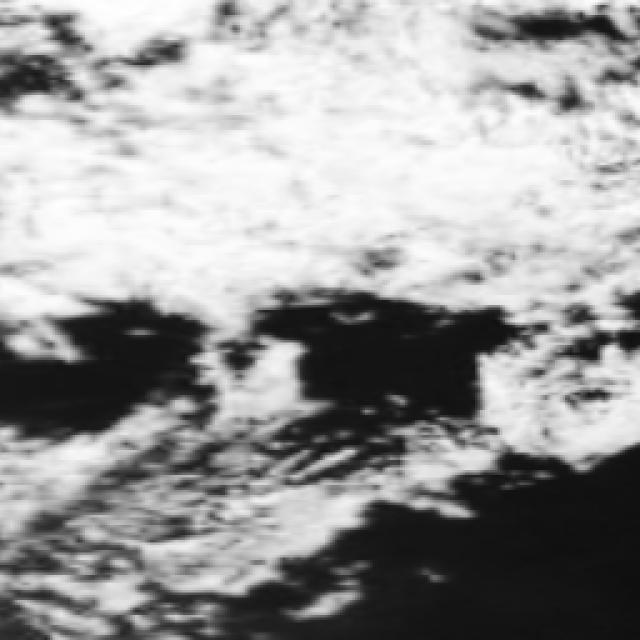CB: (202, 93, 418, 242), (20, 133, 232, 273), (368, 108, 531, 222)
